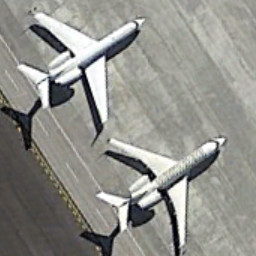Airplane: (5, 1, 154, 134), (91, 133, 232, 256)
